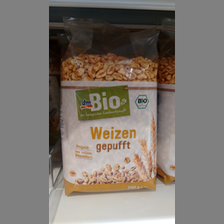cereal: (58, 43, 160, 197)
